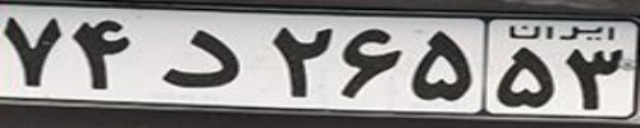2: (272, 25, 332, 97)
3: (563, 48, 626, 110)
4: (72, 19, 130, 89)
5: (412, 30, 471, 101), (496, 44, 556, 107)
6: (340, 27, 403, 98)
7: (3, 15, 62, 86)
dal: (161, 29, 241, 88)
